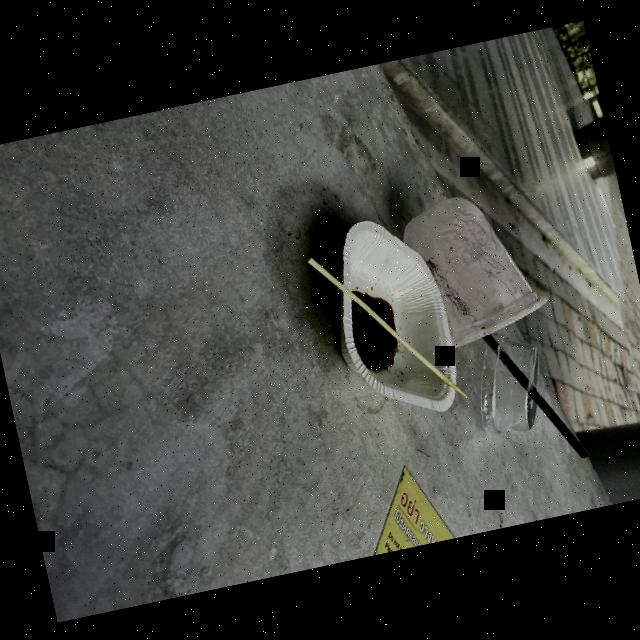cardboard_bowl: (316, 203, 475, 438)
plastic_cup: (386, 179, 556, 358)
plastic_cup_lid: (463, 320, 563, 450)
stick: (297, 227, 469, 428)
straw: (489, 317, 592, 475)
